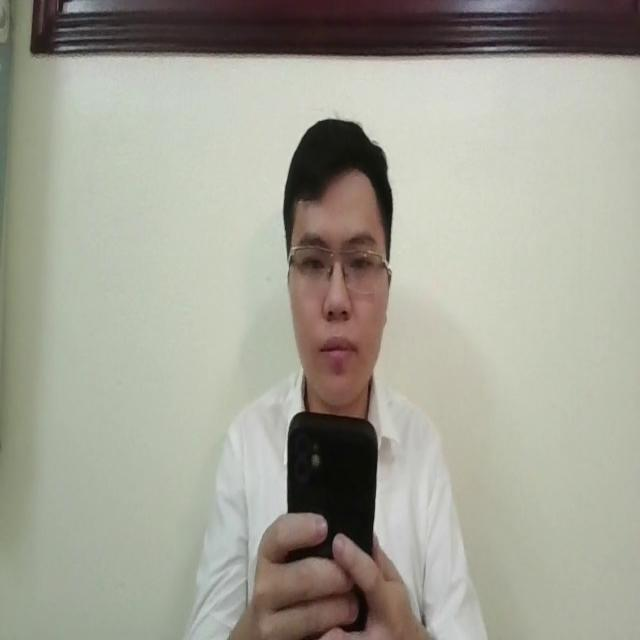phone: (282, 410, 378, 625)
student: (193, 113, 492, 640)
